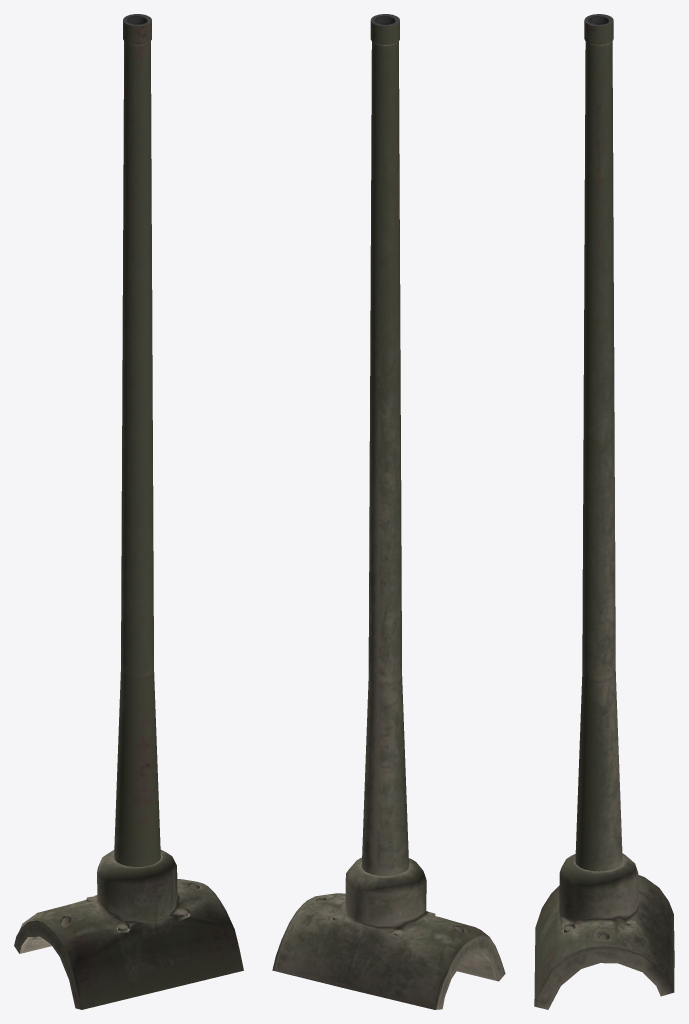
File: Gun_02.glb
3 renders of one model, left to right at view 1: azimuth 30°, elevation 25°; view 2: azimuth 150°, elevation 25°; view 3: azimuth 270°, elevation 25°, orthographic.
Parts seen in each view (by area): view 1: set_0_group_0; view 2: set_0_group_0; view 3: set_0_group_0.
Boxes of the visible parts, x1,y1,x2,y2 form: set_0_group_0: (14,14,243,1009); set_0_group_0: (272,14,505,1009); set_0_group_0: (534,14,674,1009).
Size of the model in its own units: 0.7927 by 4.44 by 0.5913.
1 material, 1 textured.
